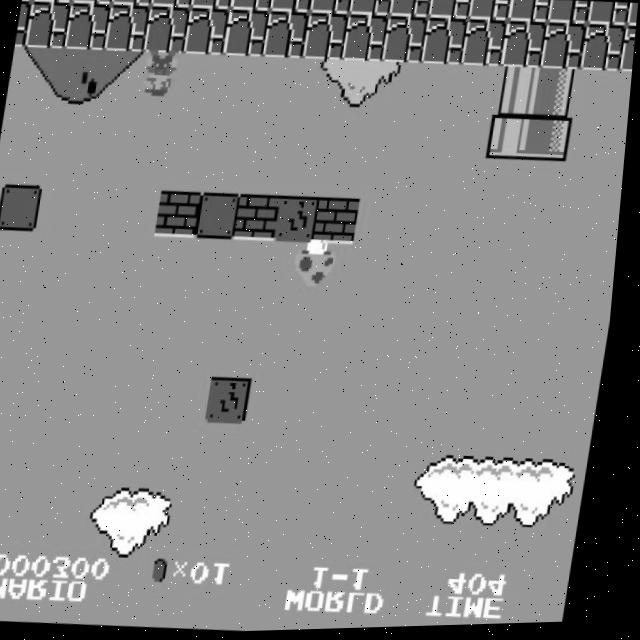1- brick_block: (157, 190, 205, 240), (237, 194, 284, 244), (317, 198, 364, 248)
11- little_mario: (135, 48, 184, 101)
12- mushroom: (293, 240, 343, 292)
13- mystery_block: (211, 377, 259, 426), (277, 196, 324, 246)
14- pipe: (494, 68, 542, 118), (534, 70, 582, 120)
15- pipe_head: (488, 113, 536, 163), (528, 115, 575, 165)
17- undestructible_block: (24, 0, 72, 50), (64, 1, 112, 51), (143, 6, 191, 56), (183, 7, 231, 57), (302, 13, 350, 63), (461, 20, 509, 70), (540, 24, 588, 74), (580, 26, 628, 76), (104, 3, 151, 53), (223, 9, 270, 59), (263, 11, 310, 61), (342, 15, 389, 65), (382, 16, 429, 66), (422, 19, 469, 69), (501, 22, 548, 72), (507, 0, 552, 27), (586, 3, 631, 30), (547, 2, 591, 29), (467, 0, 512, 25), (428, 0, 473, 23), (388, 0, 433, 21), (348, 0, 393, 19), (15, 0, 31, 48), (621, 28, 637, 76), (308, 0, 353, 17), (268, 0, 313, 16), (229, 0, 273, 14), (189, 0, 233, 12), (149, 0, 193, 10), (109, 0, 153, 7), (627, 6, 639, 31), (69, 0, 113, 6)
3- empty_block: (197, 192, 245, 242), (0, 183, 46, 233)
